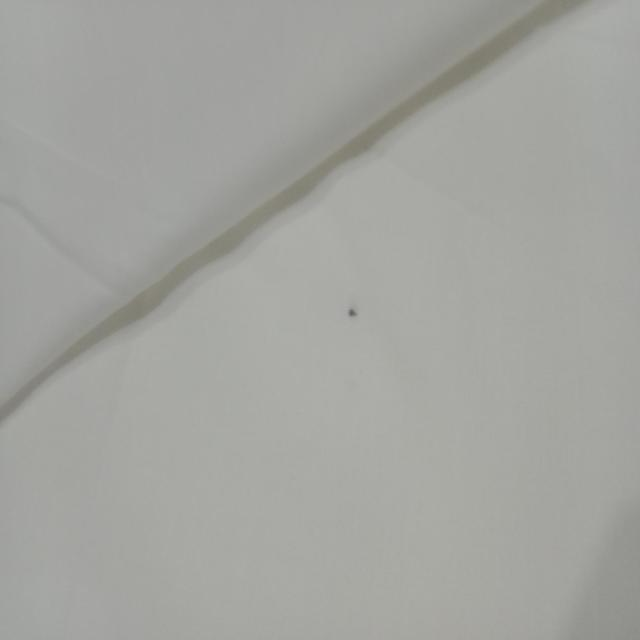stain: (340, 299, 365, 329)
